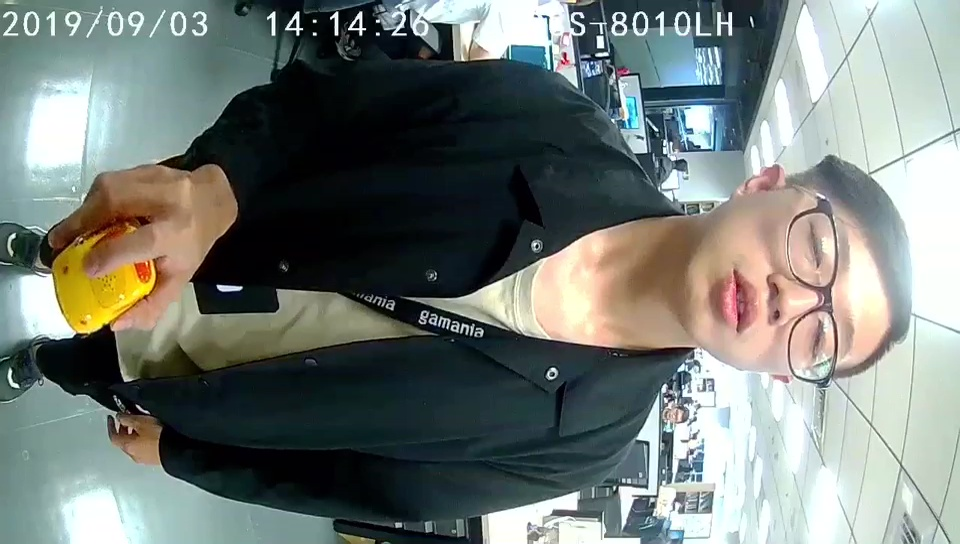car: (51, 229, 158, 333)
